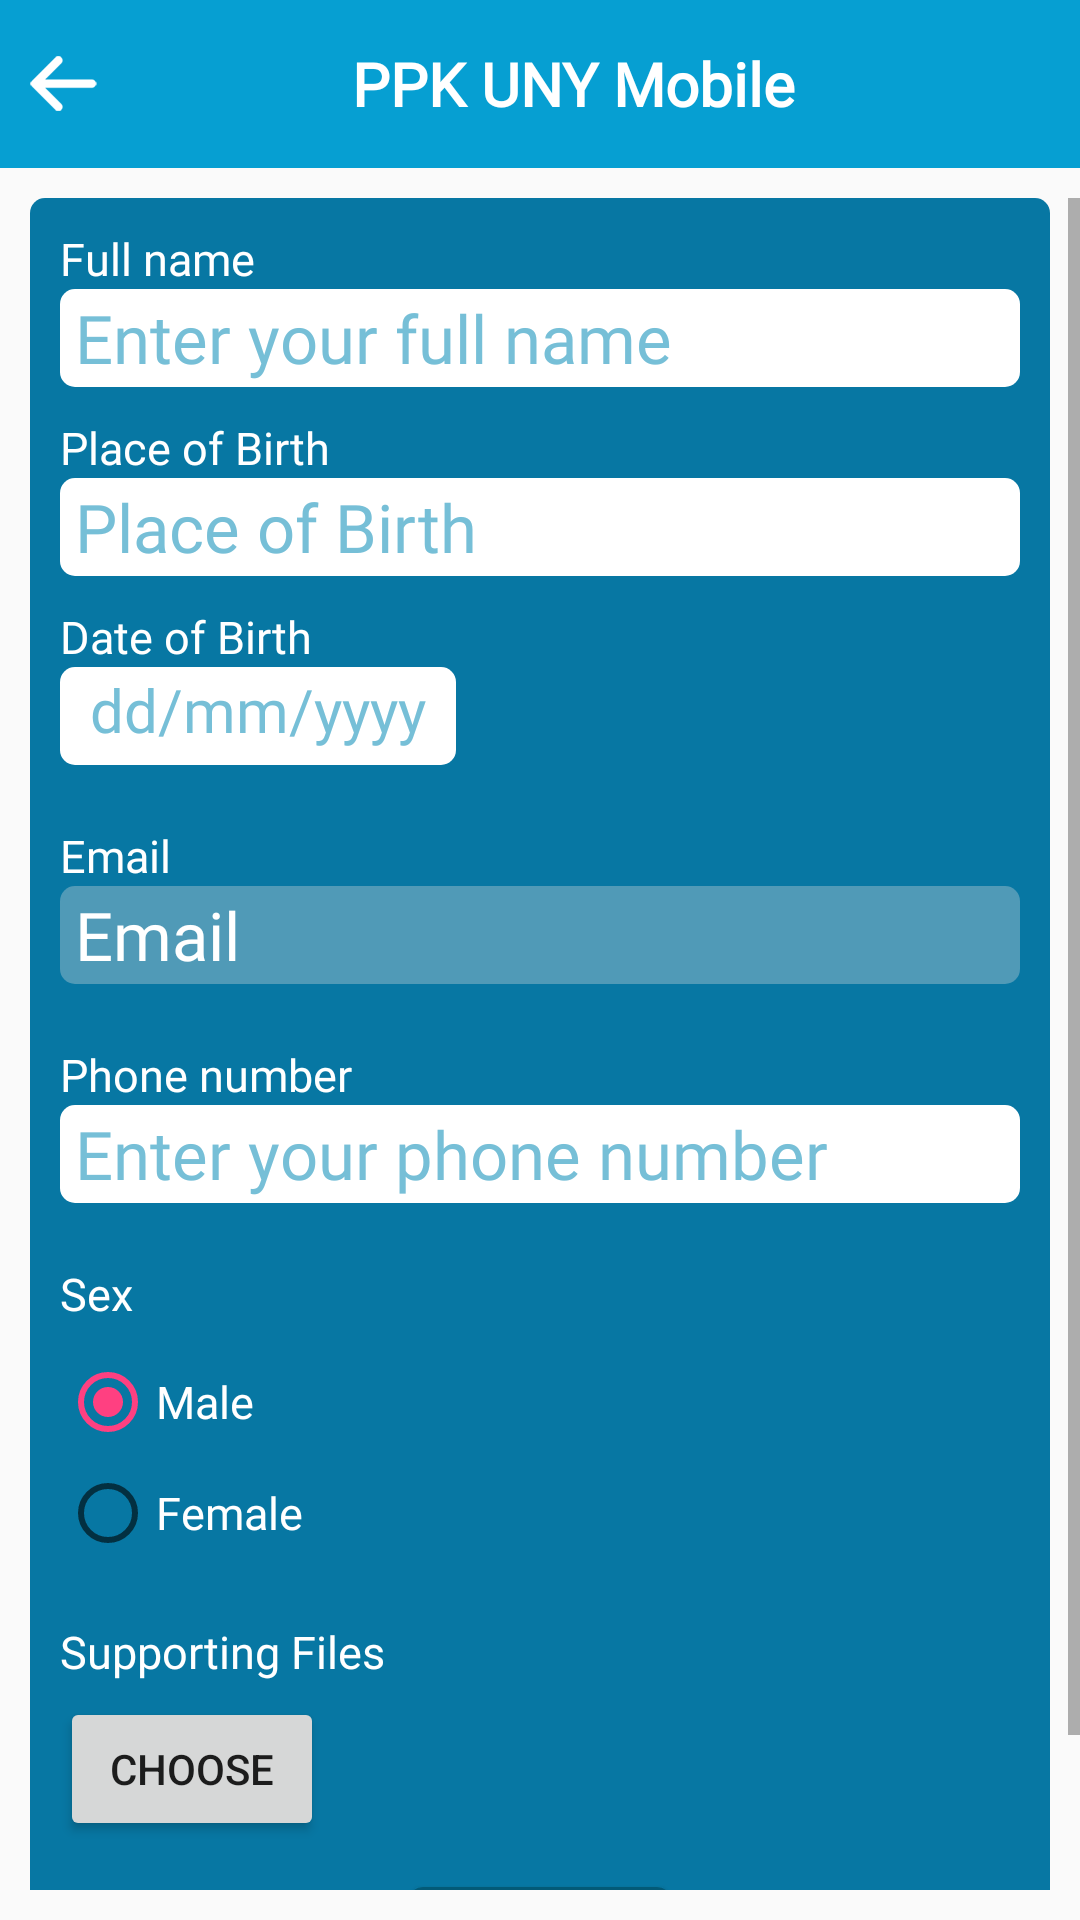

Point at icon controls on the screen. Image size 1080px x 1920px, points as [x,y].
back: [63,83]
